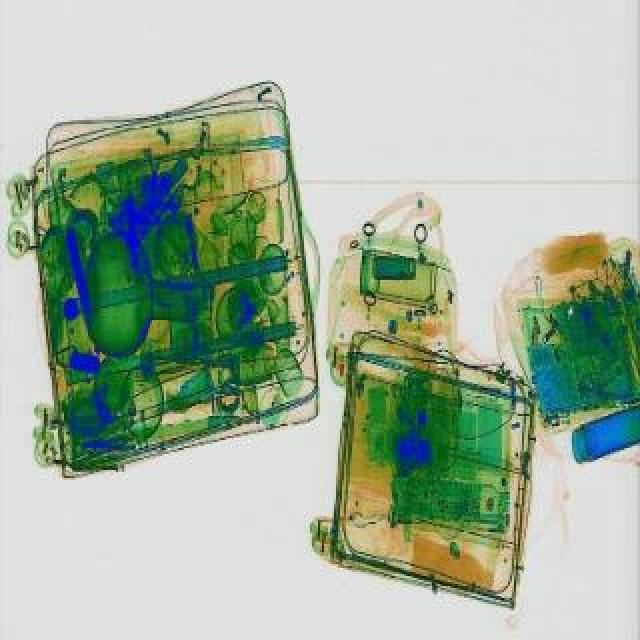scissors: (576, 376, 640, 404)
wrench: (80, 434, 136, 450)
